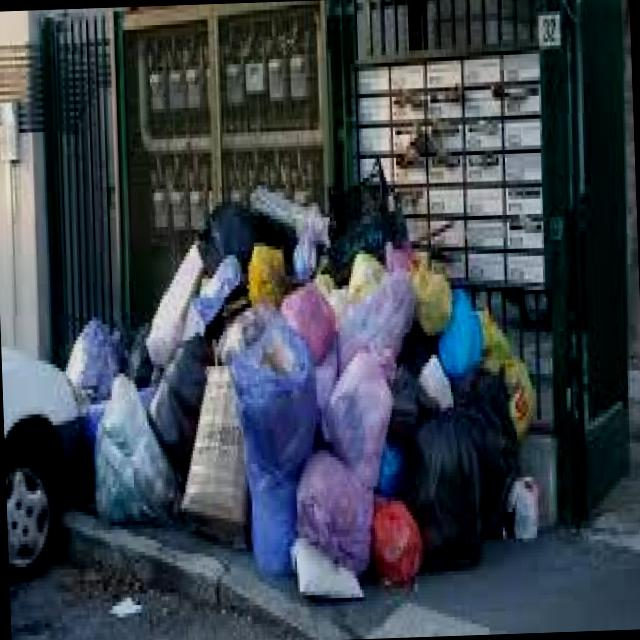garbage: (57, 134, 547, 629)
